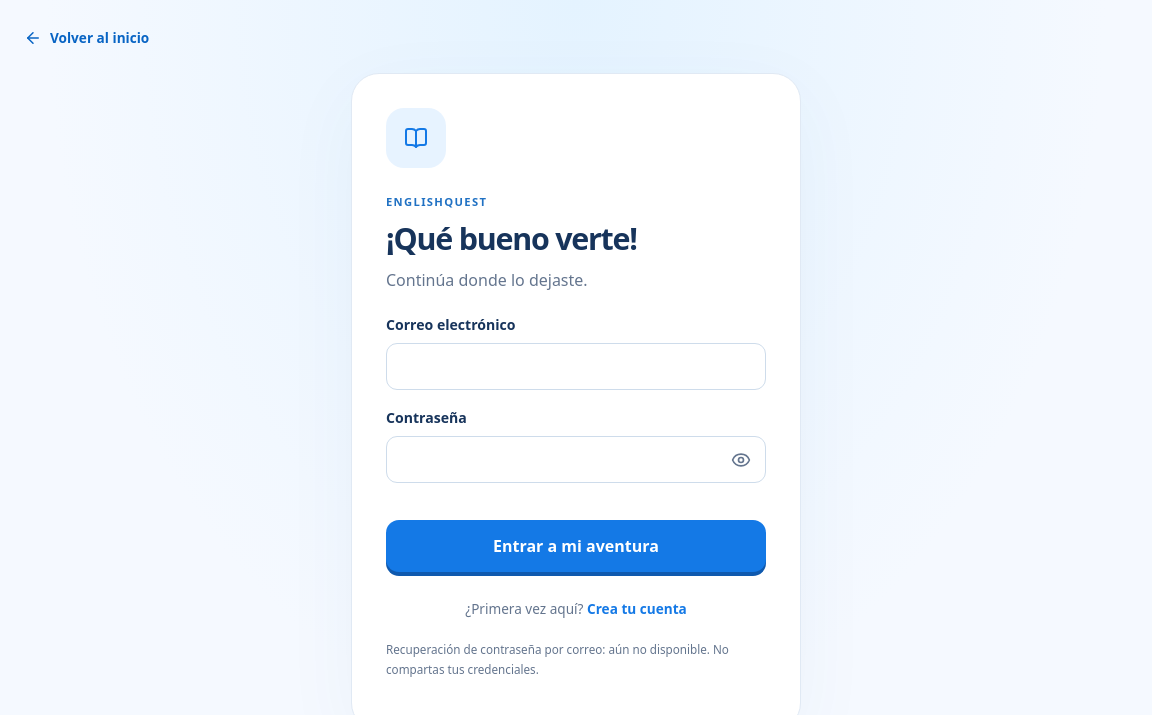
Test: Authentication forms › shows server login errors
Step 1. Type "alex@example.org" into the field labelled "Correo electrónico" → (576, 367), box left=386, top=343, right=766, bottom=390
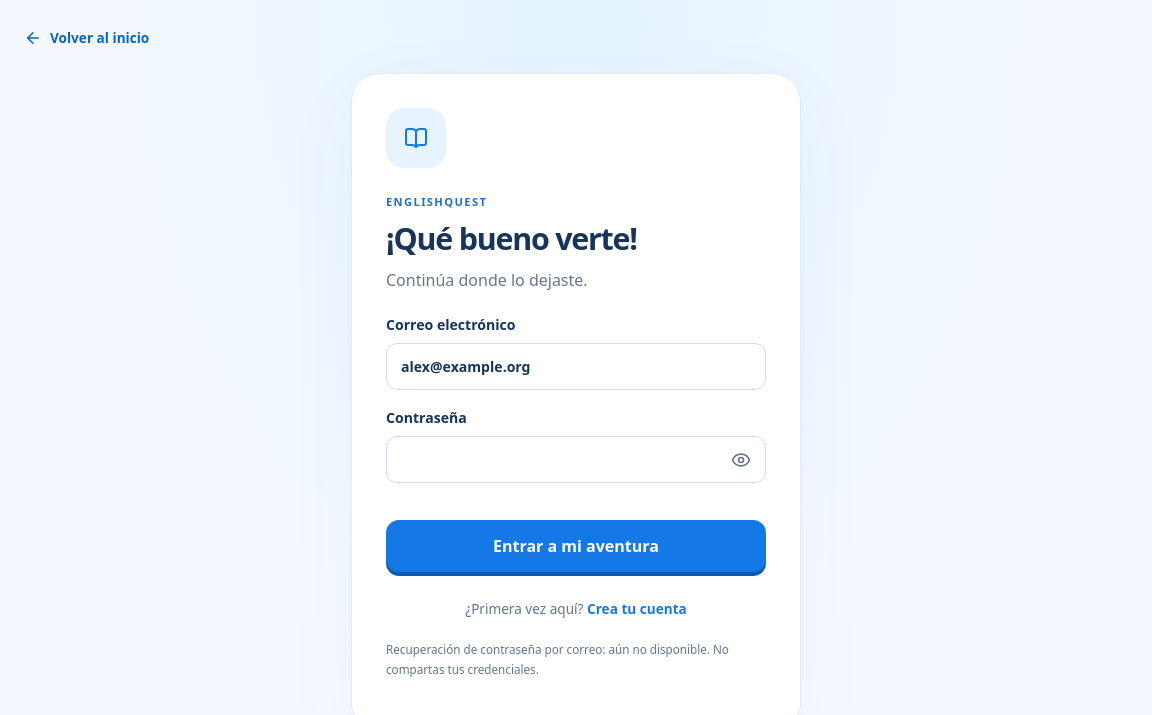
Step 2. Type "wrong-password" into the password field labelled "Contraseña" → (576, 460), box left=386, top=436, right=766, bottom=483
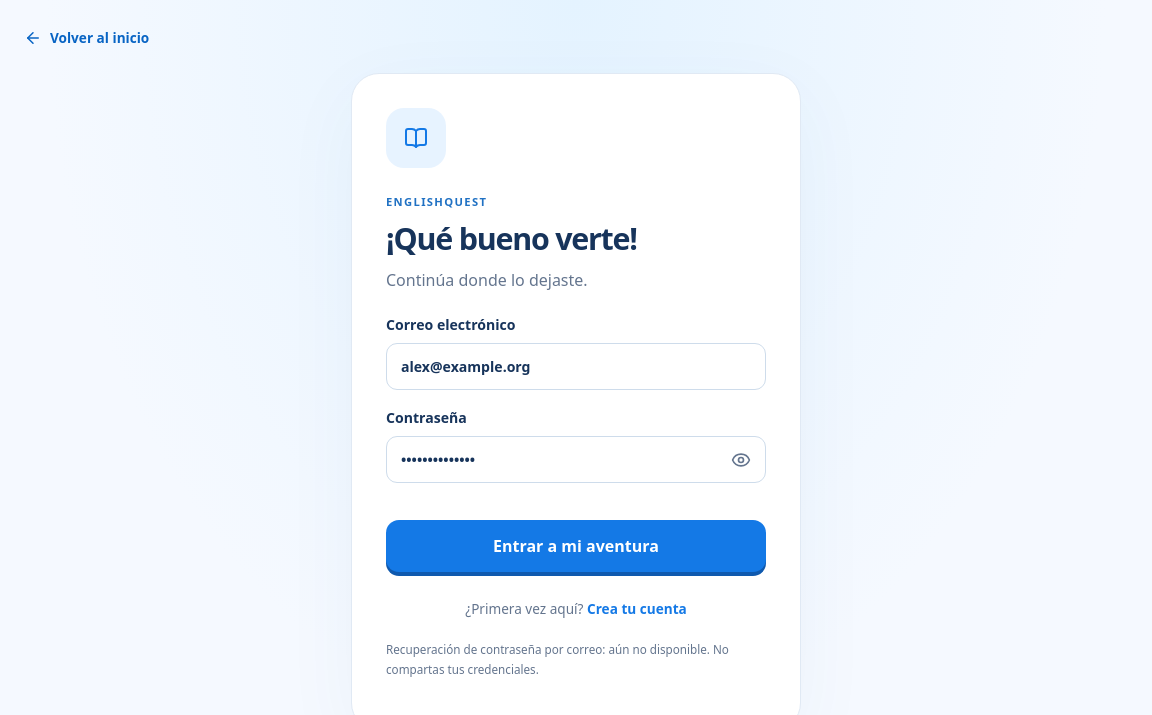
Step 3. Submit the form "Entrar a mi aventura", box left=386, top=314, right=766, bottom=572
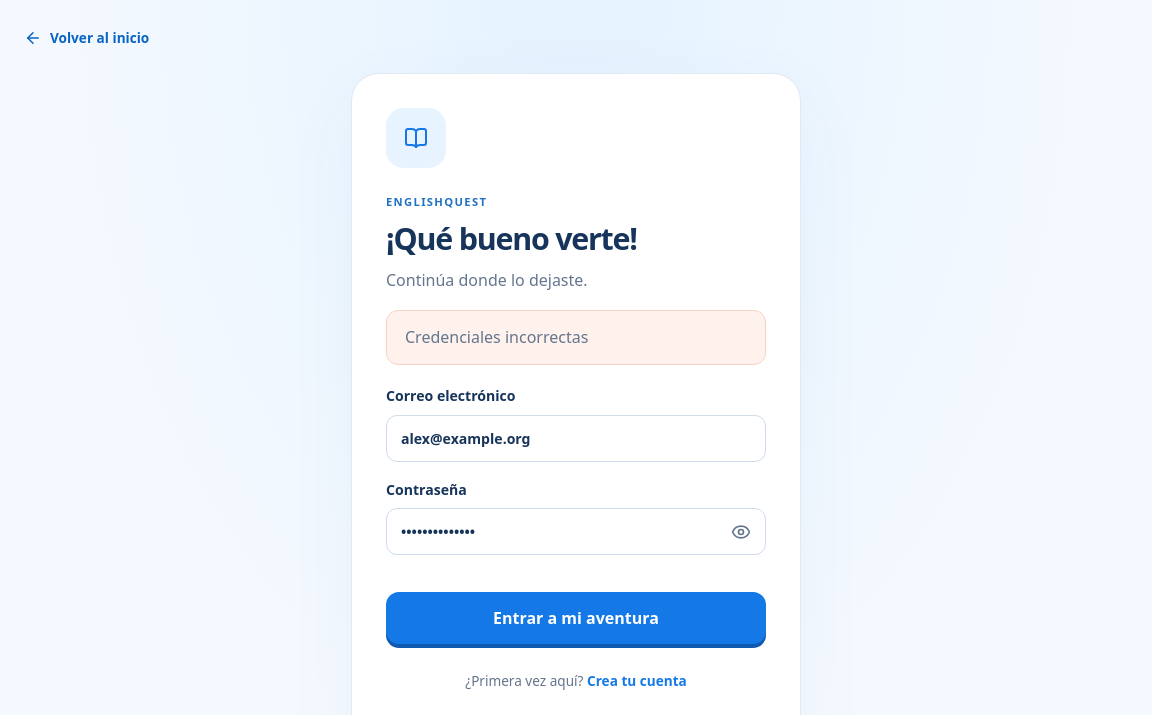
Expected: the message reads "Credenciales incorrectas", left=405, top=326, right=588, bottom=348
